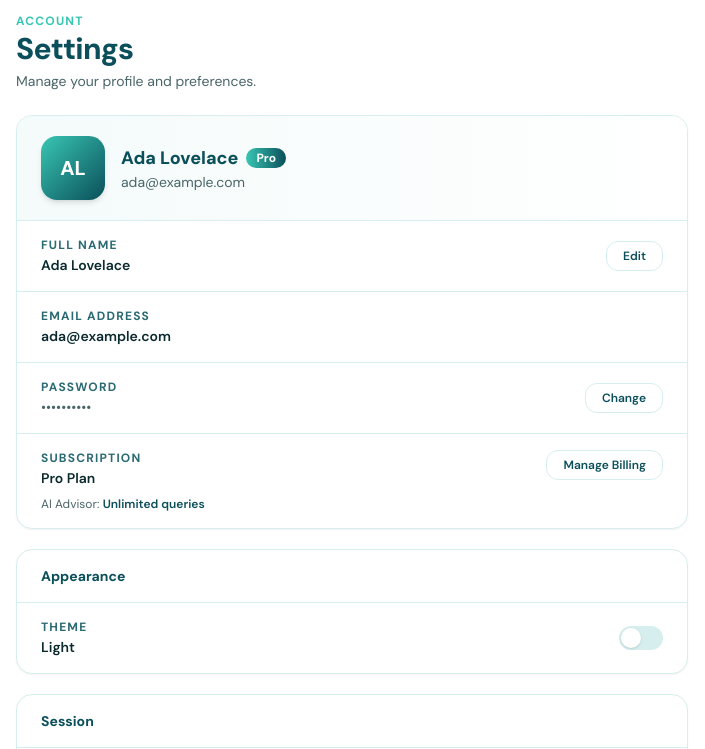
SettingsPage › requests a password reset and shows confirmation
// The page labels the password-reset action button "Change".
Click the button "Change".
click(624, 398)  # box x1=585 y1=383 x2=663 y2=413
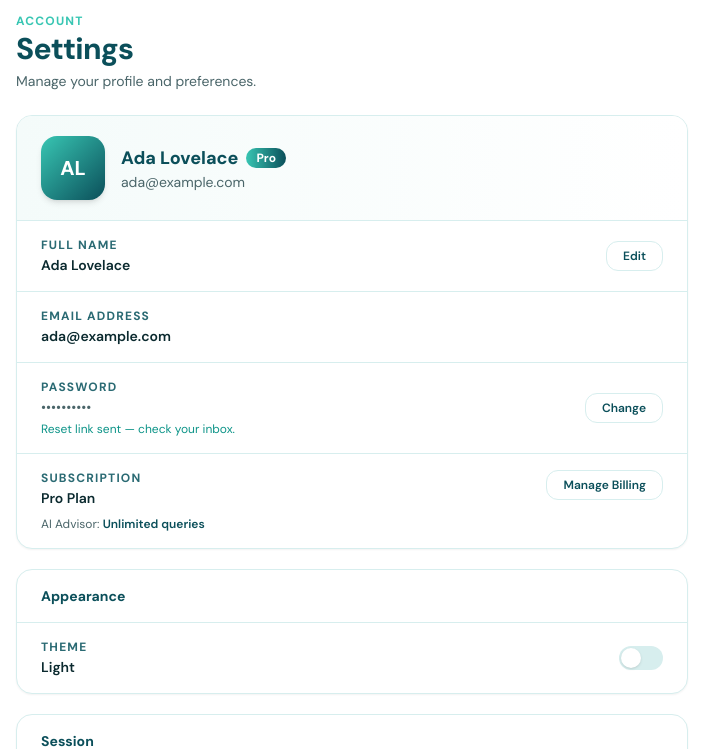
Result: the text "Reset link sent — check your inbox." is shown at x1=41 y1=421 x2=235 y2=437
